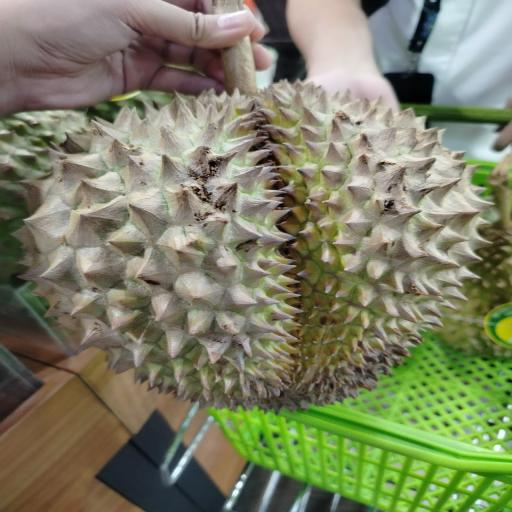rot: (0, 29, 511, 440)
